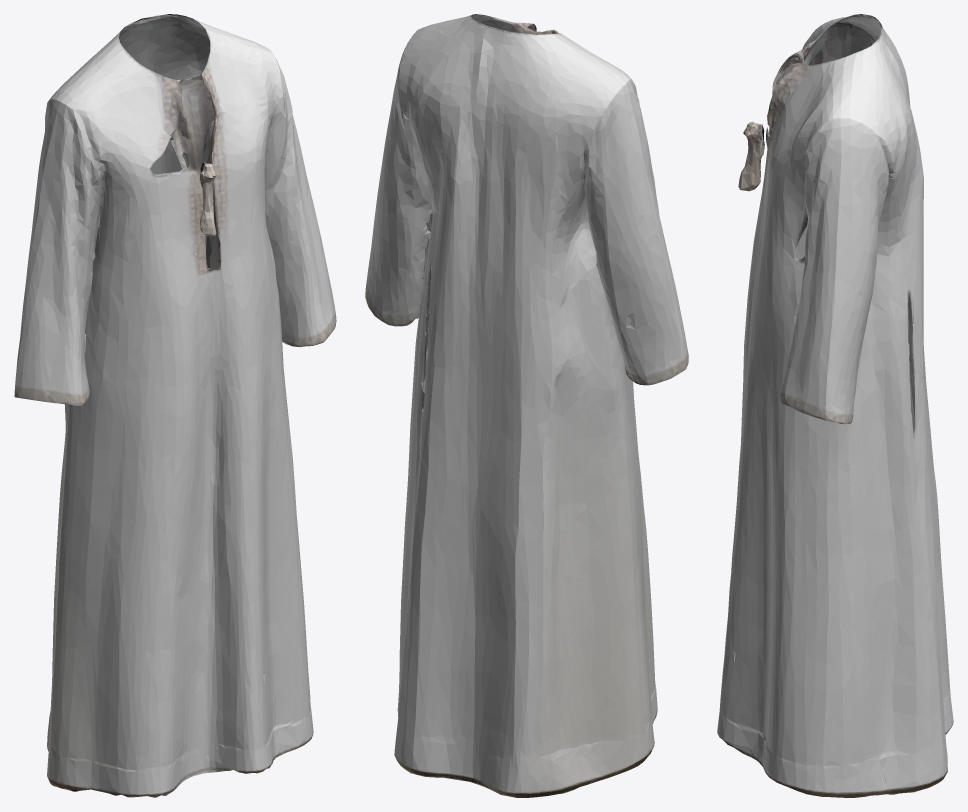
File: omani-dishdasha-prototype-v1.glb
The picture shows the model from 3 angles, left to right: view 1: azimuth 30°, elevation 25°; view 2: azimuth 150°, elevation 25°; view 3: azimuth 270°, elevation 25°; orthographic projection.
Parts seen in each view (by area): view 1: world; view 2: world; view 3: world.
Boxes of the visible parts, x1=… form: world: x1=14, y1=14, x2=336, y2=797; world: x1=365, y1=14, x2=688, y2=797; world: x1=717, y1=14, x2=953, y2=797.
Size of the model in its own units: 0.4547 by 1 by 0.2959.
Materials: 1 (1 with a texture image).
